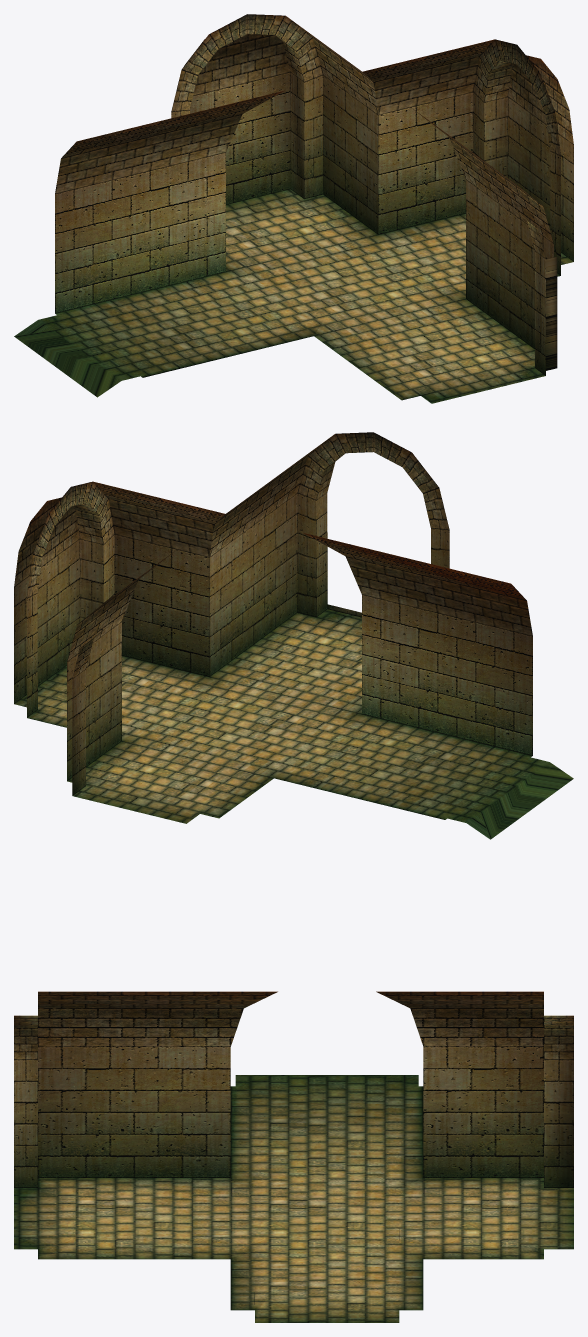
The model's file is Mission12_Catacomb01_A.glb.
3 renders of one model, top to bottom at view 1: azimuth 30°, elevation 25°; view 2: azimuth 150°, elevation 25°; view 3: azimuth 270°, elevation 25°, orthographic. The views are drawn at different scales.
Parts seen in each view (by area): view 1: MISSION12_CATACOMB01_A; view 2: MISSION12_CATACOMB01_A; view 3: MISSION12_CATACOMB01_A.
Part boxes in pixels (x1,y1,x2,y2): MISSION12_CATACOMB01_A: (14, 14, 573, 403); MISSION12_CATACOMB01_A: (14, 432, 573, 839); MISSION12_CATACOMB01_A: (14, 991, 573, 1322).
Bounding box in the file's own units: 12.76 × 5.27 × 11.62.
Materials: 3 (3 with a texture image).
